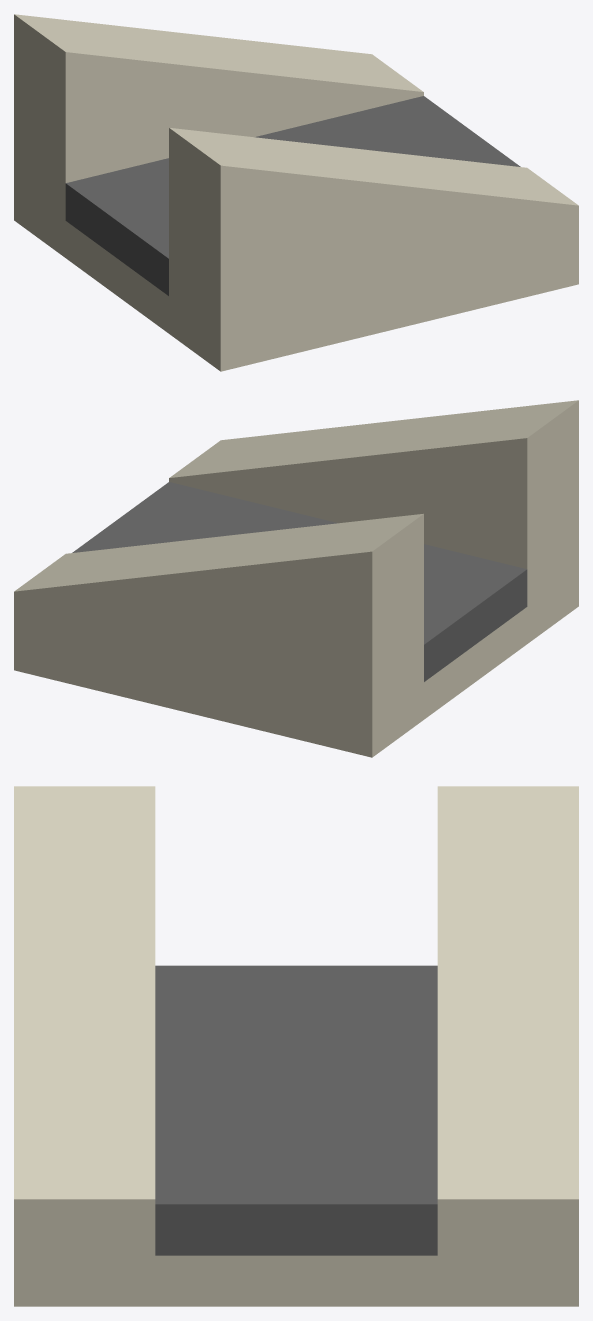
Rendered from roadTile_258.obj.
The picture shows the model from 3 angles, top to bottom: view 1: azimuth 30°, elevation 25°; view 2: azimuth 150°, elevation 25°; view 3: azimuth 270°, elevation 25°; orthographic projection. The views are drawn at different scales.
Visible parts, largest first — view 1: roadTile_258; view 2: roadTile_258; view 3: roadTile_258.
Boxes of the visible parts, box(x1,y1,x2,y2) form: roadTile_258: box(14, 14, 578, 371); roadTile_258: box(14, 400, 578, 757); roadTile_258: box(14, 786, 578, 1306).
Size of the model in its own units: 3 by 1.65 by 3.
